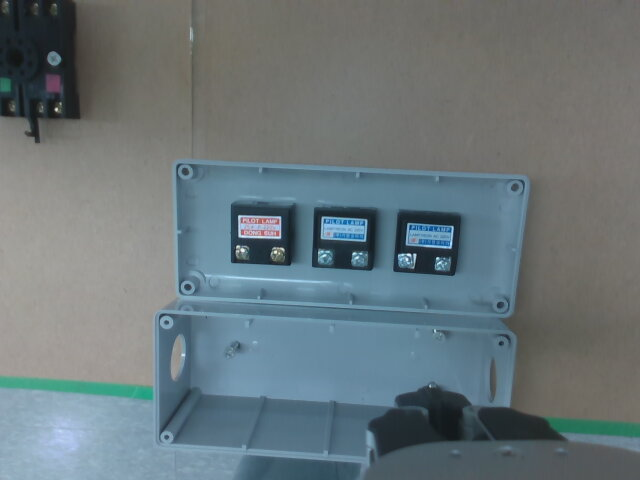L1(1): (235, 245, 249, 259)
L1(2): (270, 247, 285, 263)
L2(1): (317, 249, 334, 265)
L2(2): (351, 251, 367, 267)
L3(1): (398, 253, 415, 269)
L3(2): (435, 256, 451, 271)
